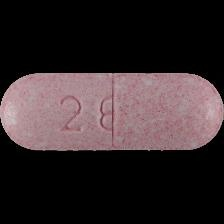13668-268: (0, 0, 224, 224)
